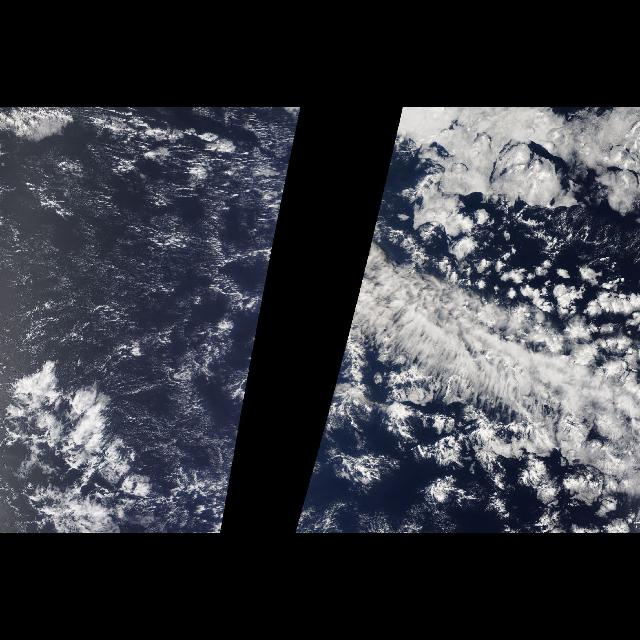Flower: (351, 356, 639, 534)
Sugar: (7, 158, 250, 374)
